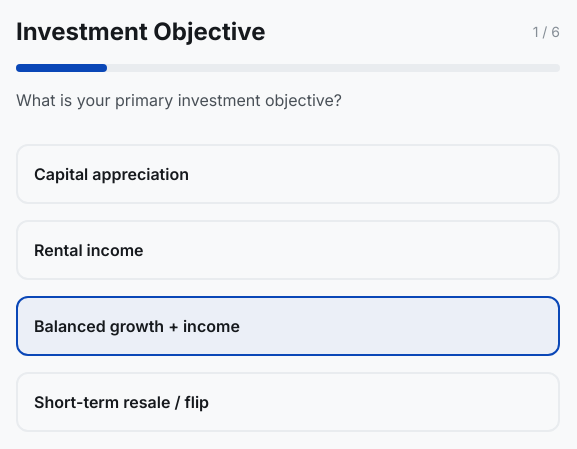
Test: Questionnaire — Step 24B › captures Budget in step 2
# Advance to budget step
Click the button "Balanced growth + income" at (137, 326), box [16,296,560,356]
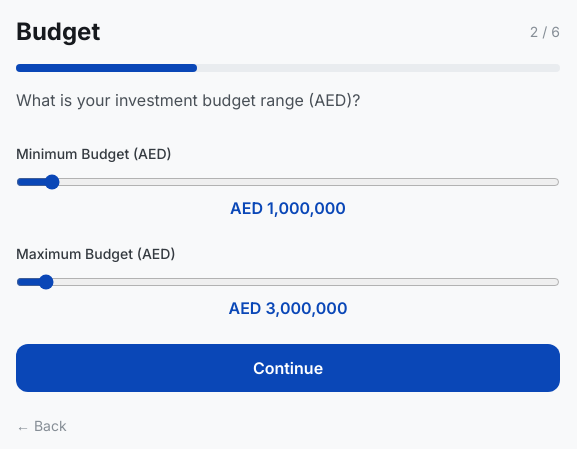
Expected: the heading "Budget" is shown, [16,16,100,48]
Expected: the text "Minimum Budget (AED)" is shown, [16,145,172,162]
Expected: the text "Maximum Budget (AED)" is shown, [16,245,176,262]
